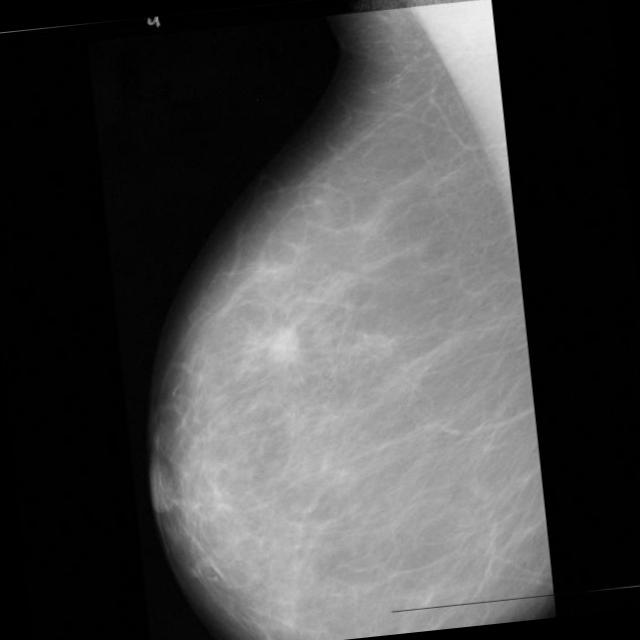ARCH: (218, 279, 348, 409)
